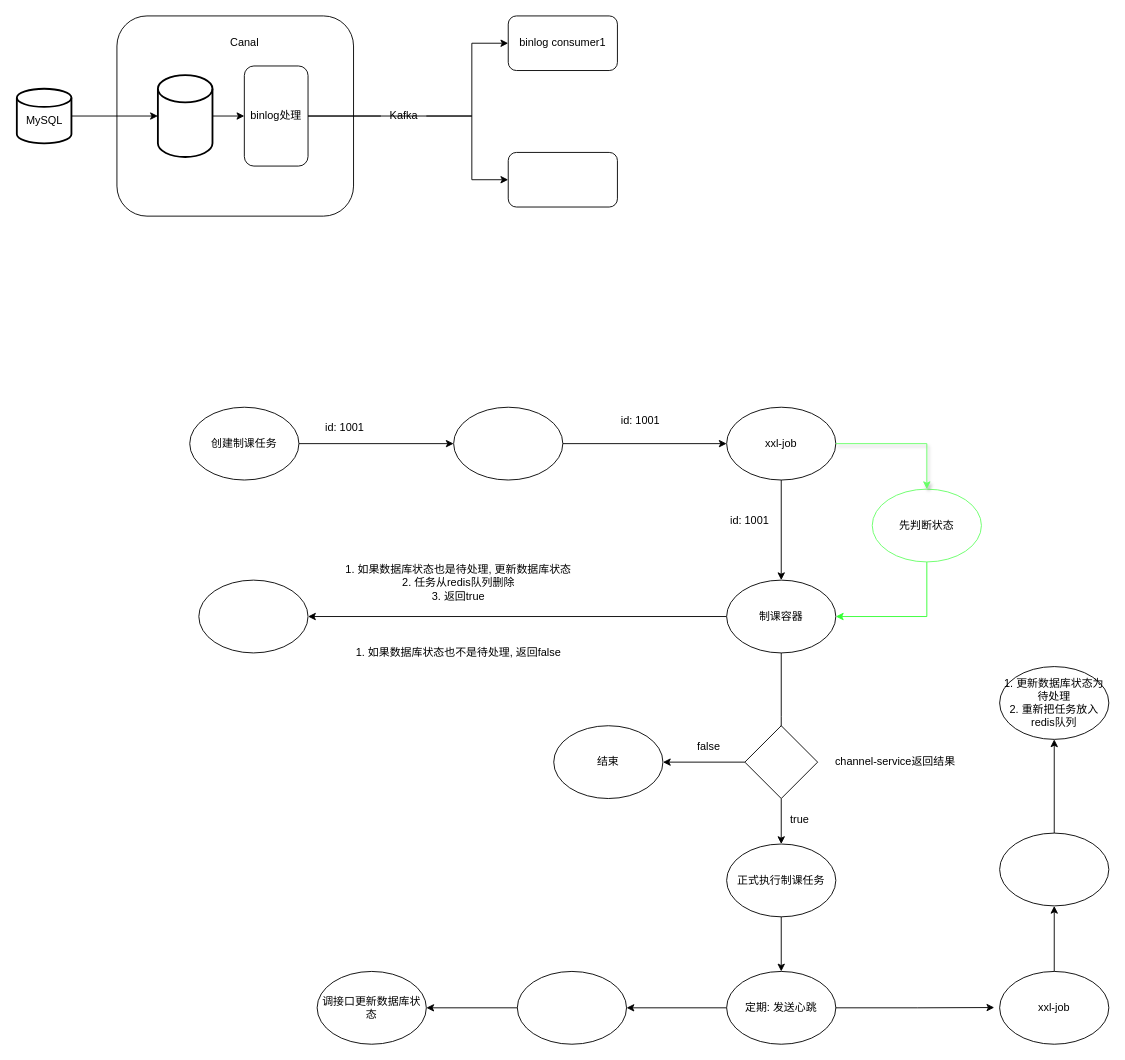
The diagram is 1125 pixels wide and 1060 high, and some of its shapes have lost their labels. The shapes that lost their labels are listed below. From the top down, each one's centre as x and y in pixels, then its label:
At pixel 185 115: "mask slave".
At pixel 562 179: "data-warehourse-input".
At pixel 508 443: "redis待处理任务队列".
At pixel 253 616: "channel-service".
At pixel 1054 869: "一段时间没有心跳".
At pixel 571 1007: "制课完成".
